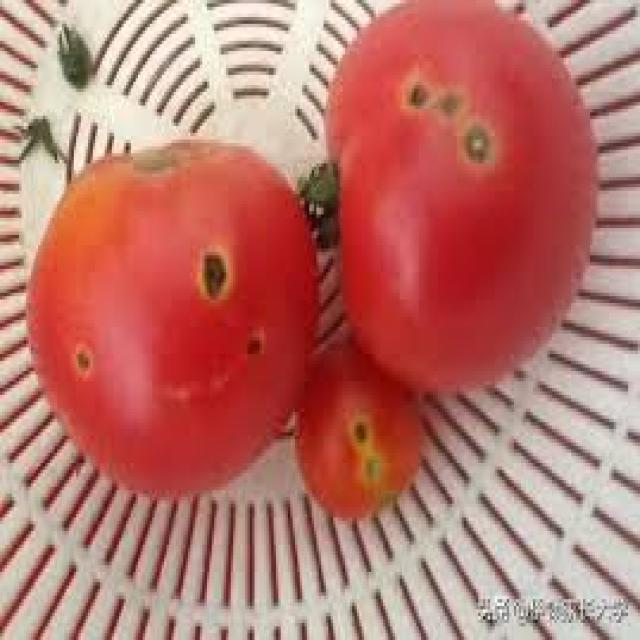food_waste: (26, 0, 595, 514)
